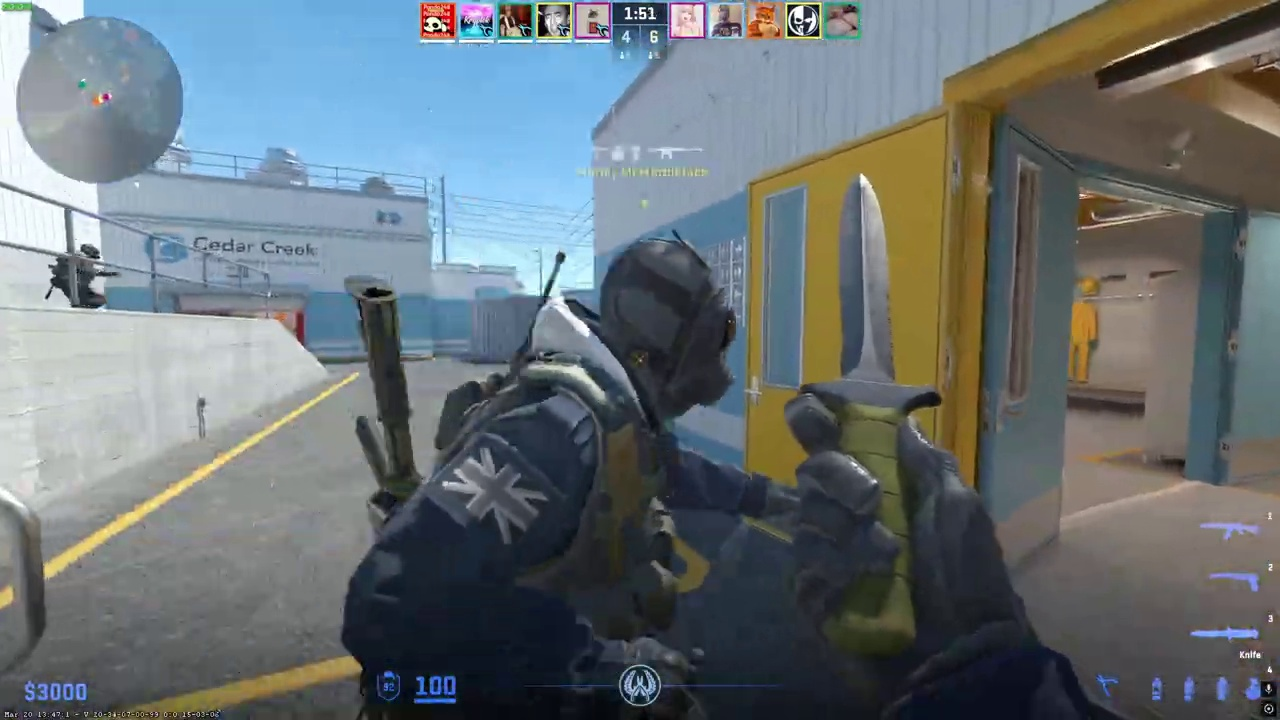CT: (360, 229, 752, 719), (61, 244, 113, 311)
